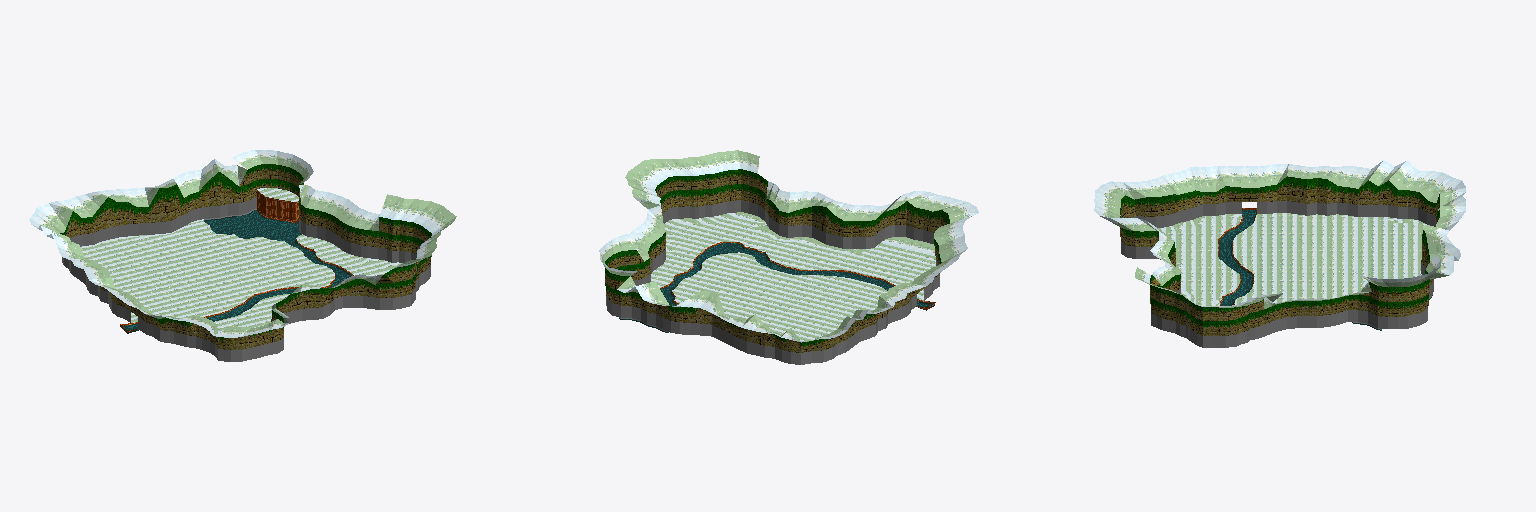
3 renders of one model, left to right at view 1: azimuth 30°, elevation 25°; view 2: azimuth 150°, elevation 25°; view 3: azimuth 270°, elevation 25°, orthographic.
Visible parts, largest first — view 1: Plane; view 2: Plane; view 3: Plane.
Boxes of the visible parts, x1=… form: Plane: x1=29, y1=150, x2=456, y2=361; Plane: x1=599, y1=150, x2=978, y2=364; Plane: x1=1094, y1=160, x2=1465, y2=347.
Size of the model in its own units: 10.68 by 1.77 by 10.58.
Materials: 11 (5 with a texture image).